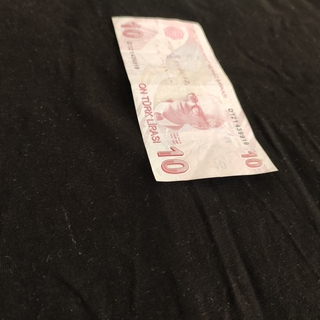10TLBack: (110, 15, 281, 183)
